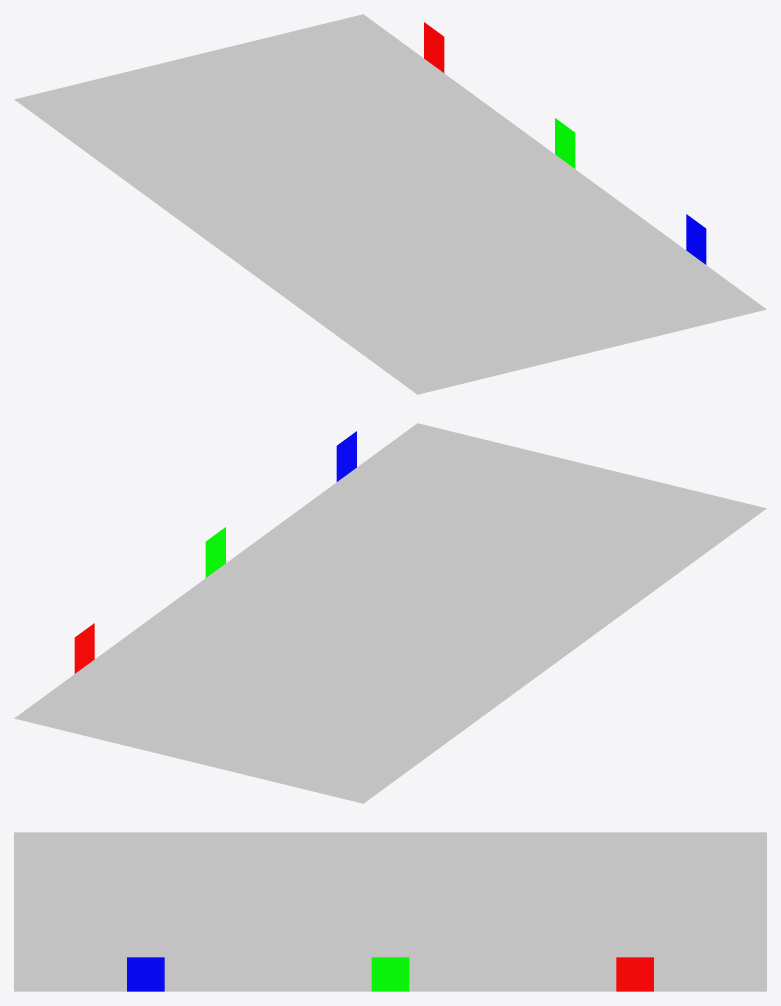
Rendered from highlight-desaturation.glb.
3 renders of one model, top to bottom at view 1: azimuth 30°, elevation 25°; view 2: azimuth 150°, elevation 25°; view 3: azimuth 270°, elevation 25°, orthographic. The views are drawn at different scales.
Visible parts, largest first — view 1: floor, led, led.001, led.002; view 2: floor, led, led.001, led.002; view 3: floor, led.001, led, led.002.
Boxes of the visible parts, x1,y1,x2,y2 form: floor: (14,14,766,394); led: (424,22,444,72); led.001: (555,118,575,168); led.002: (686,214,706,264); floor: (14,423,766,803); led: (74,623,94,673); led.001: (205,527,225,577); led.002: (336,431,356,481); floor: (14,832,766,991); led.001: (371,957,409,991); led: (616,957,653,991); led.002: (127,957,164,991).
Bounding box in the file's own units: 2 × 0.2 × 4.
